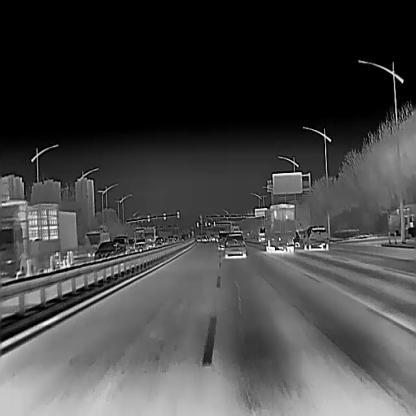car: (0, 199, 60, 277), (264, 202, 295, 252), (56, 206, 77, 265), (386, 202, 416, 235), (302, 224, 328, 249), (223, 231, 246, 257), (93, 240, 123, 259), (113, 235, 129, 254), (134, 237, 146, 251), (153, 236, 164, 248), (128, 237, 135, 252)
